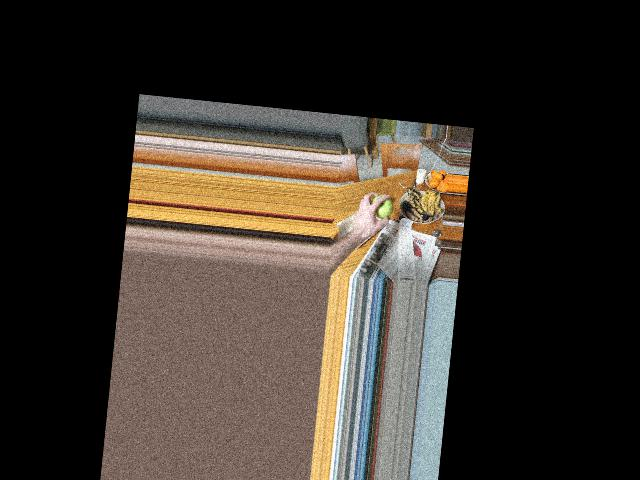apple: (370, 192, 393, 220)
